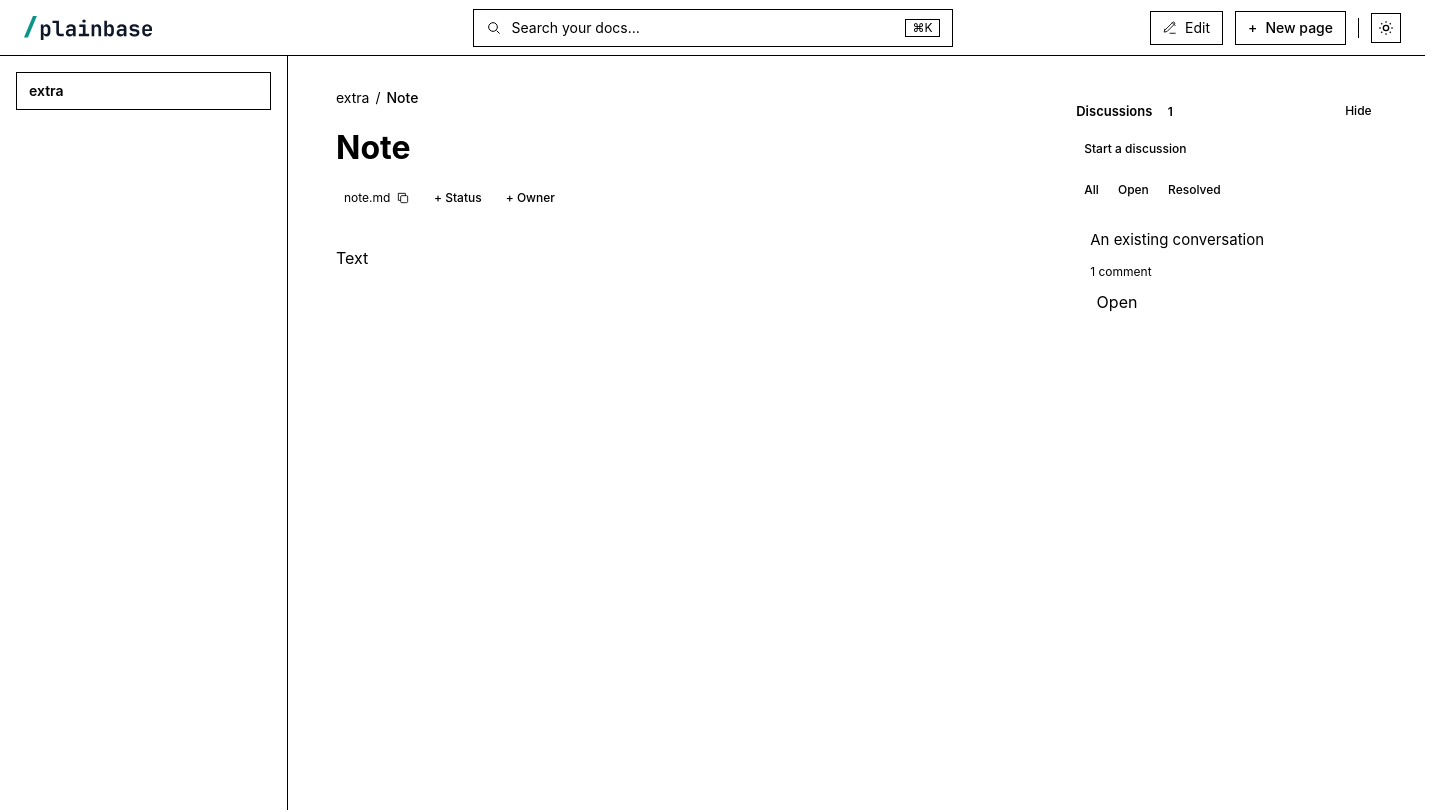
Scenario: keeps ordinary creation errors (empty) separate from uncertain-outcome inspection
Click the button "Start a discussion" at (1135, 150), box [1076,137,1194,162]
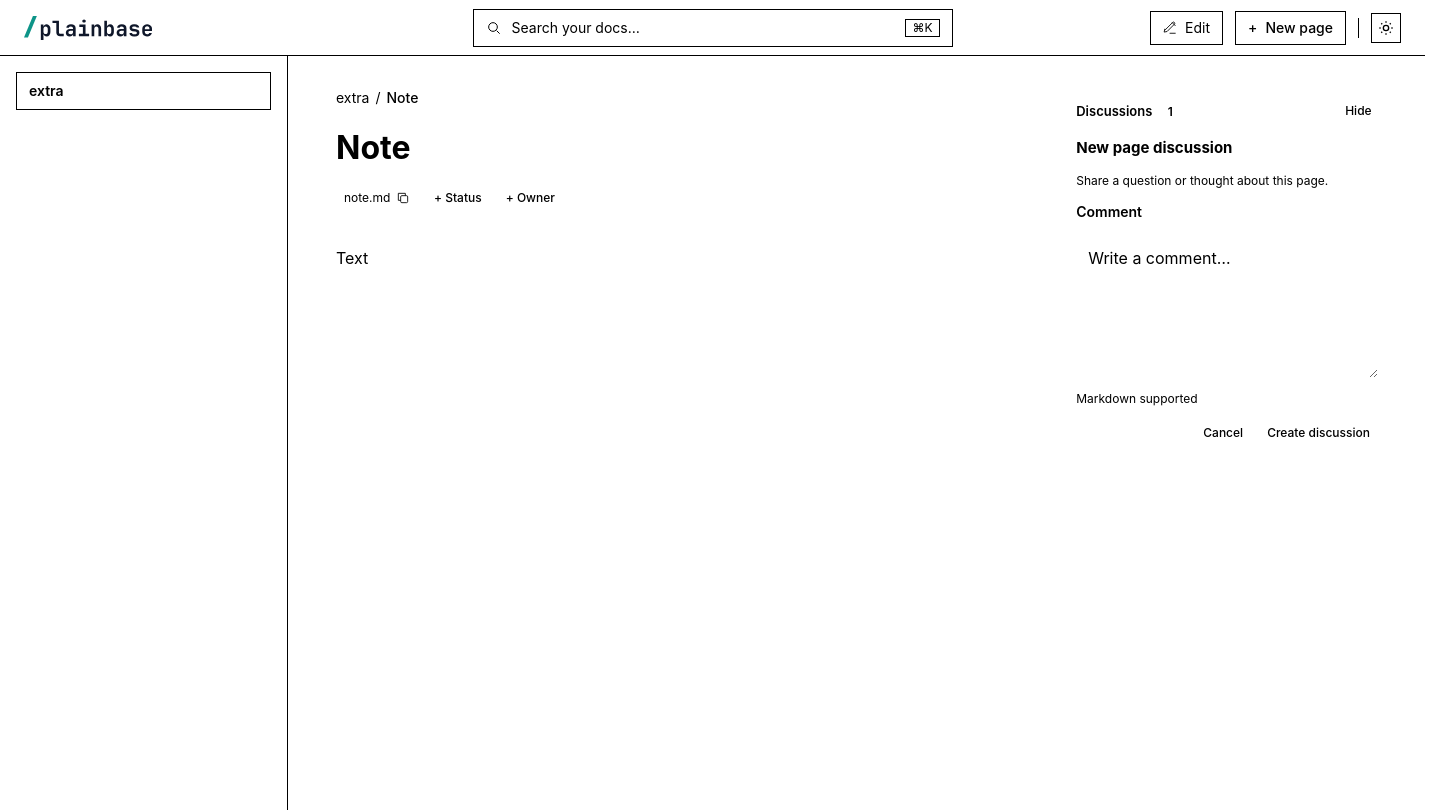
Click the button "Create discussion" at (1319, 433), box [1259,421,1378,446]
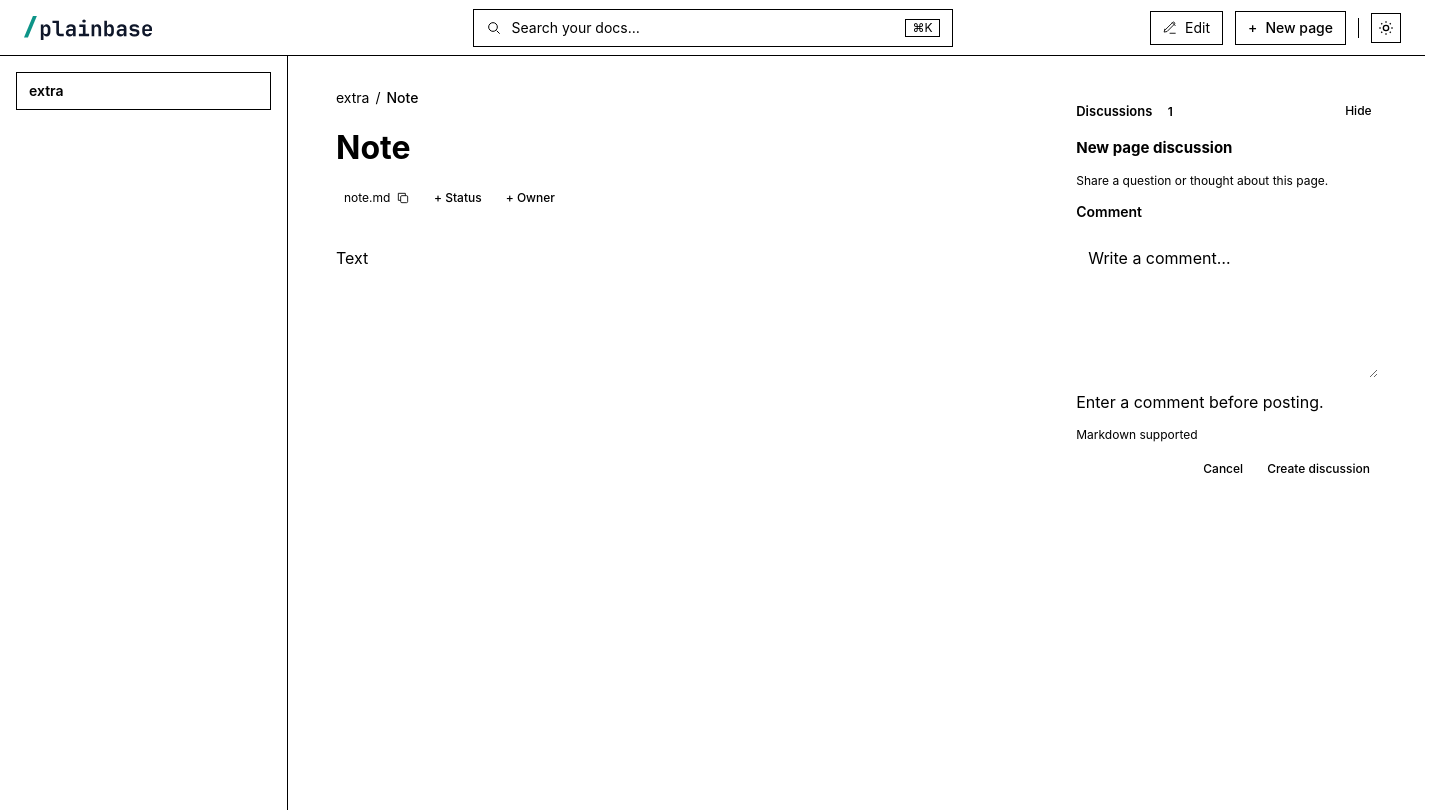
Expected: the button "An existing conversation" is not shown
Result: the message "Enter a comment before posting." is shown at [1076,392,1324,412]
